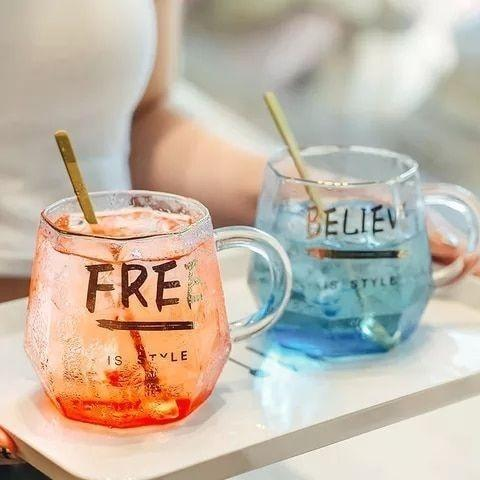glass-mug: (18, 187, 293, 433), (252, 142, 480, 366)
